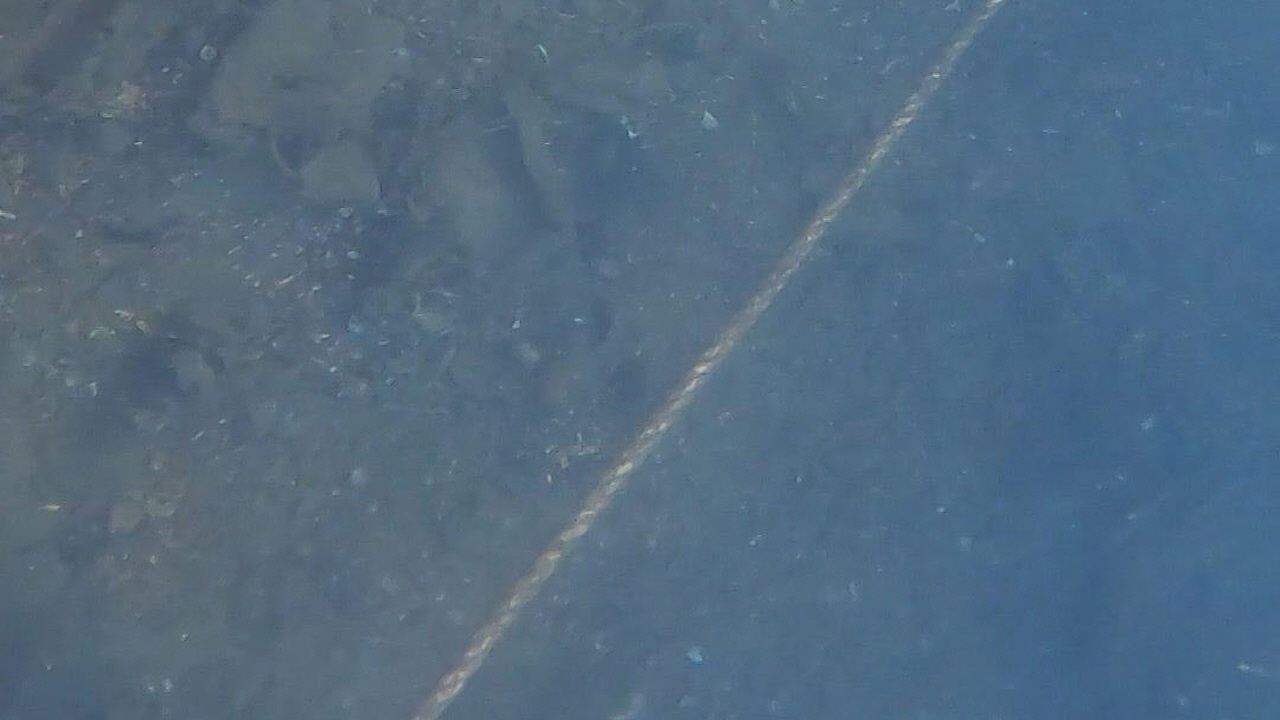rope: (404, 0, 1000, 720)
